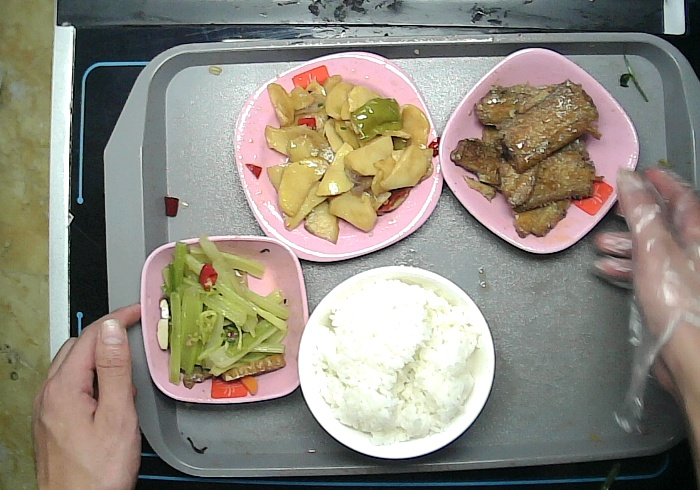SHKJ-Fan_Wan: (293, 261, 504, 461)
SHKJ-Fen_Se_Cai_Die: (435, 43, 646, 259)
SHKJ-Fen_Se_Si_Fang_Cai_Die: (225, 49, 446, 263)
SHKJ-Fen_Se_Xiao_Fang_Die: (135, 232, 318, 406)
